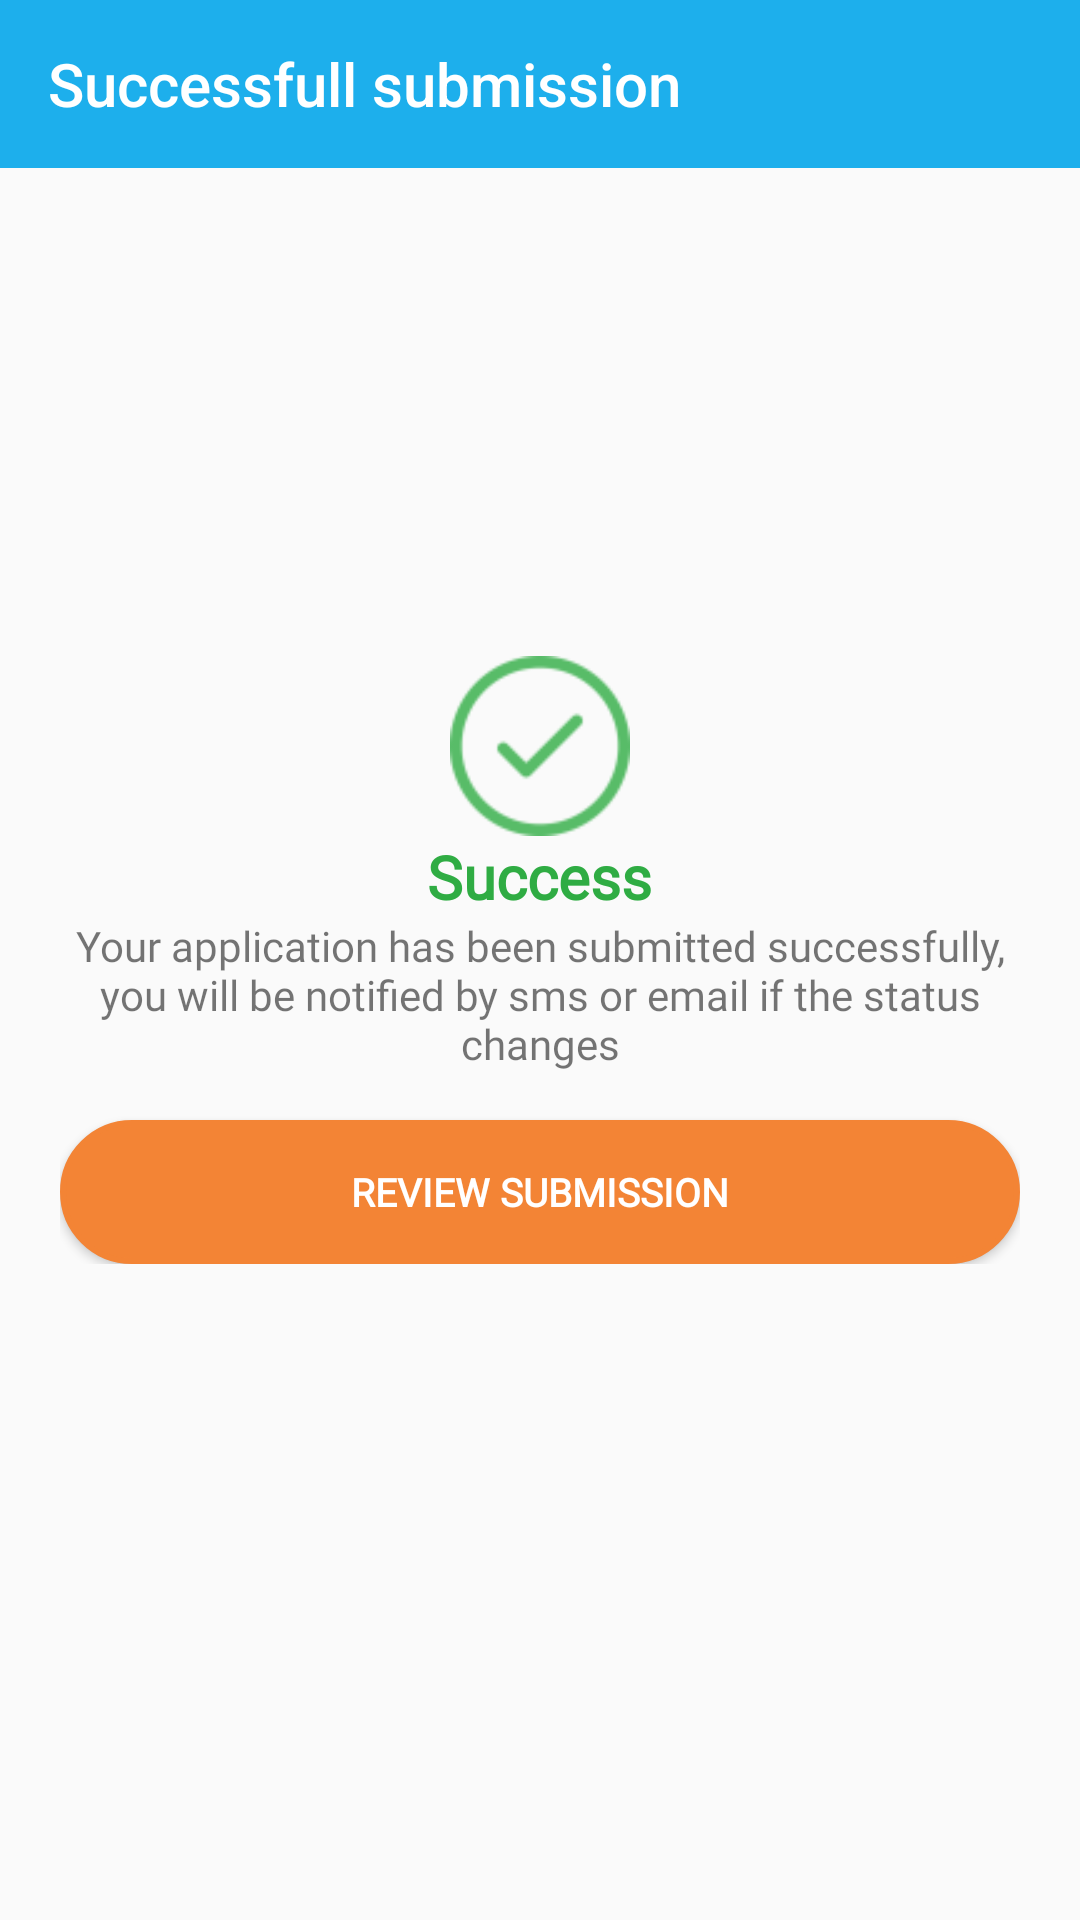

Where icons sit on this 1080 x 1920 app screen, as (x1, y1, x2, y2):
tick done: (450, 656, 630, 836)
